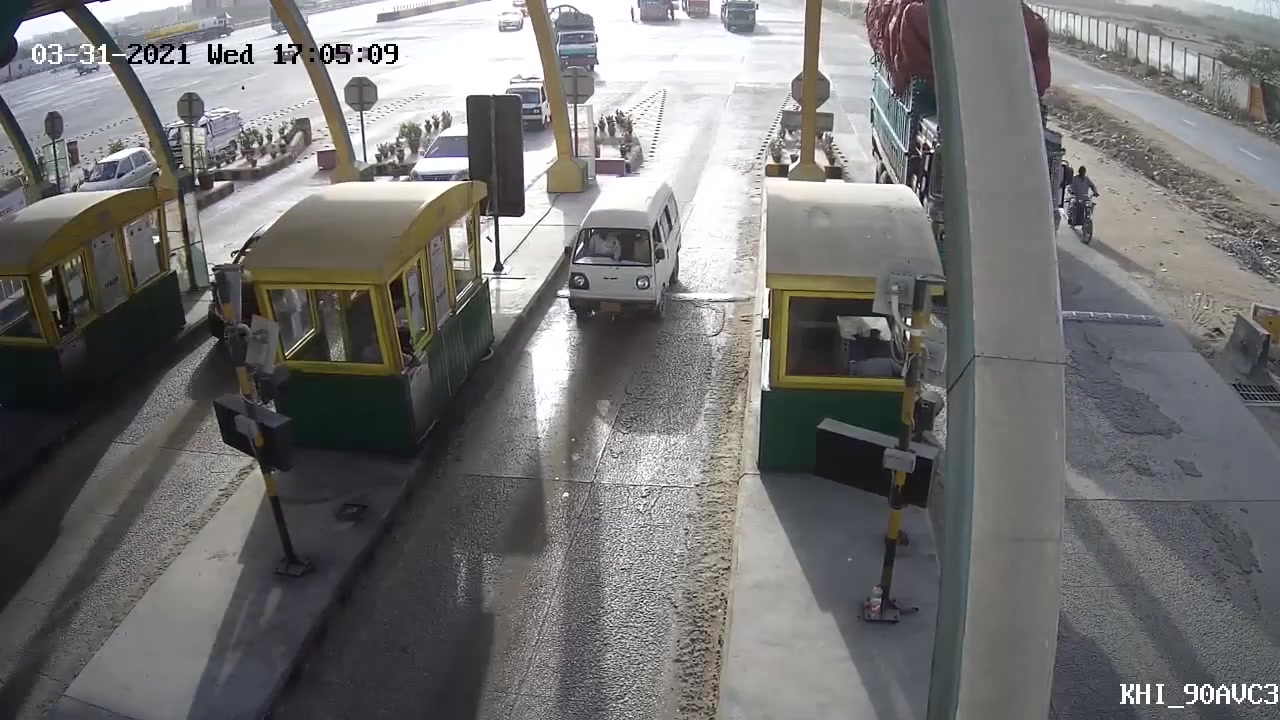F1: (556, 175, 683, 326)
